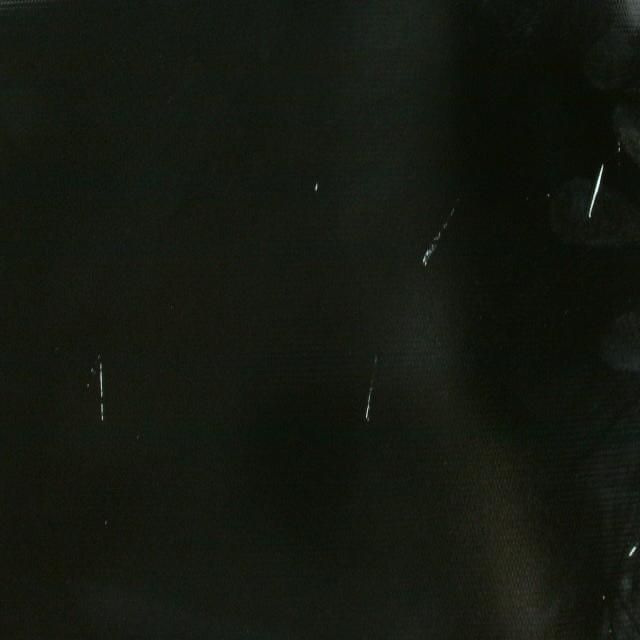scratch: (417, 183, 465, 275), (361, 347, 385, 435), (584, 155, 608, 222), (94, 348, 112, 434)
very small scratch: (310, 174, 322, 198)
